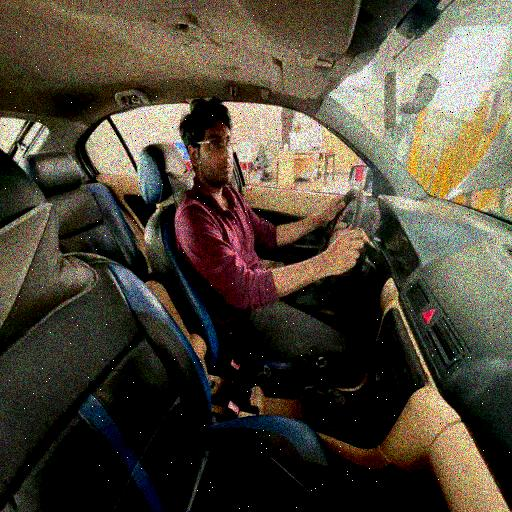Reaching_behind: (175, 99, 368, 359)
